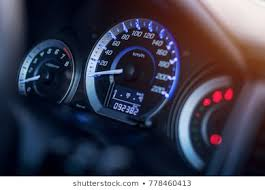Digital_Meter: (99, 88, 147, 115)
